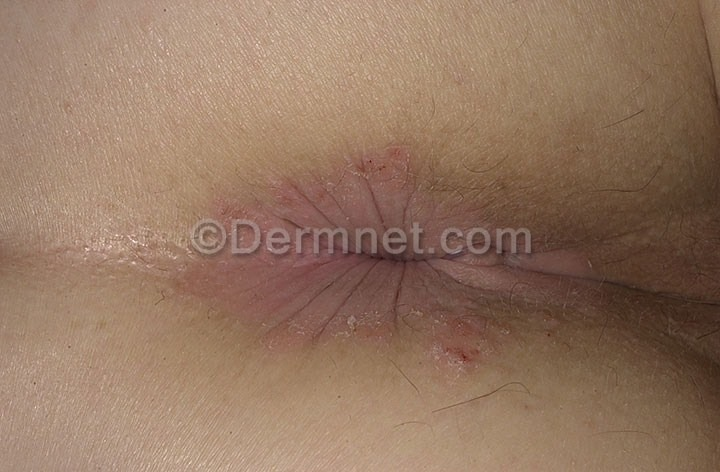Eczema: (361, 265, 499, 411), (201, 111, 358, 221), (193, 255, 357, 345), (363, 150, 500, 227), (512, 265, 604, 367)
